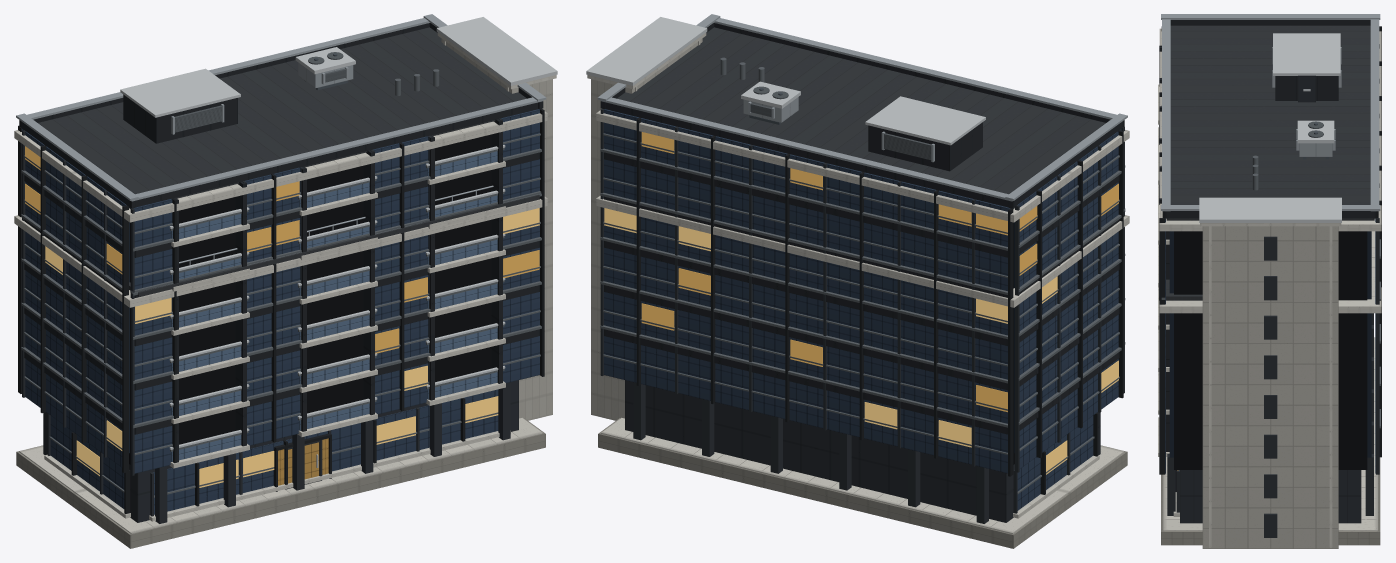
File: el-5-built.glb
3 views of the same model, side by side, from view 1: azimuth 30°, elevation 25°; view 2: azimuth 150°, elevation 25°; view 3: azimuth 270°, elevation 25° (orthographic). The views are drawn at different scales.
Bounding box in the file's own units: 32.93 × 26 × 14.81.
Materials: 45 (35 with a texture image).
